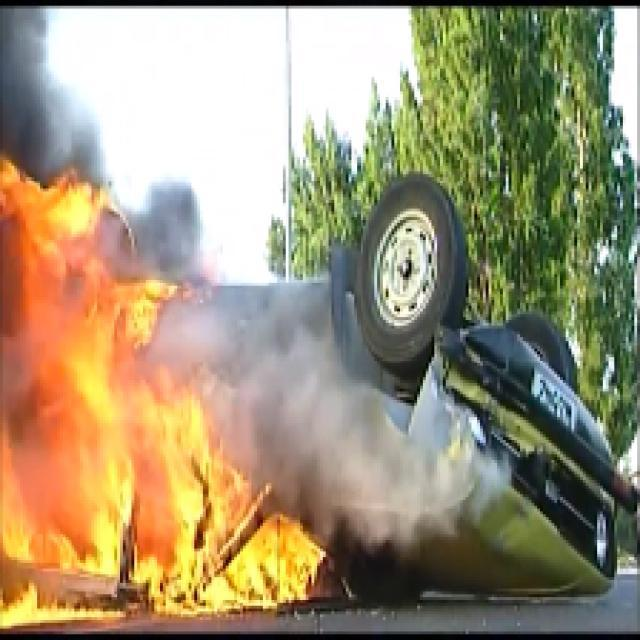Fire: (2, 157, 318, 640)
Smoke: (260, 312, 446, 532), (2, 2, 72, 154)
